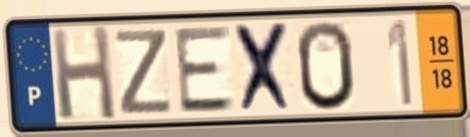1: (384, 16, 415, 111)
E: (172, 23, 239, 117)
H: (48, 23, 119, 124)
O: (294, 18, 358, 113)
X: (231, 19, 299, 117)
Z: (112, 27, 175, 118)
